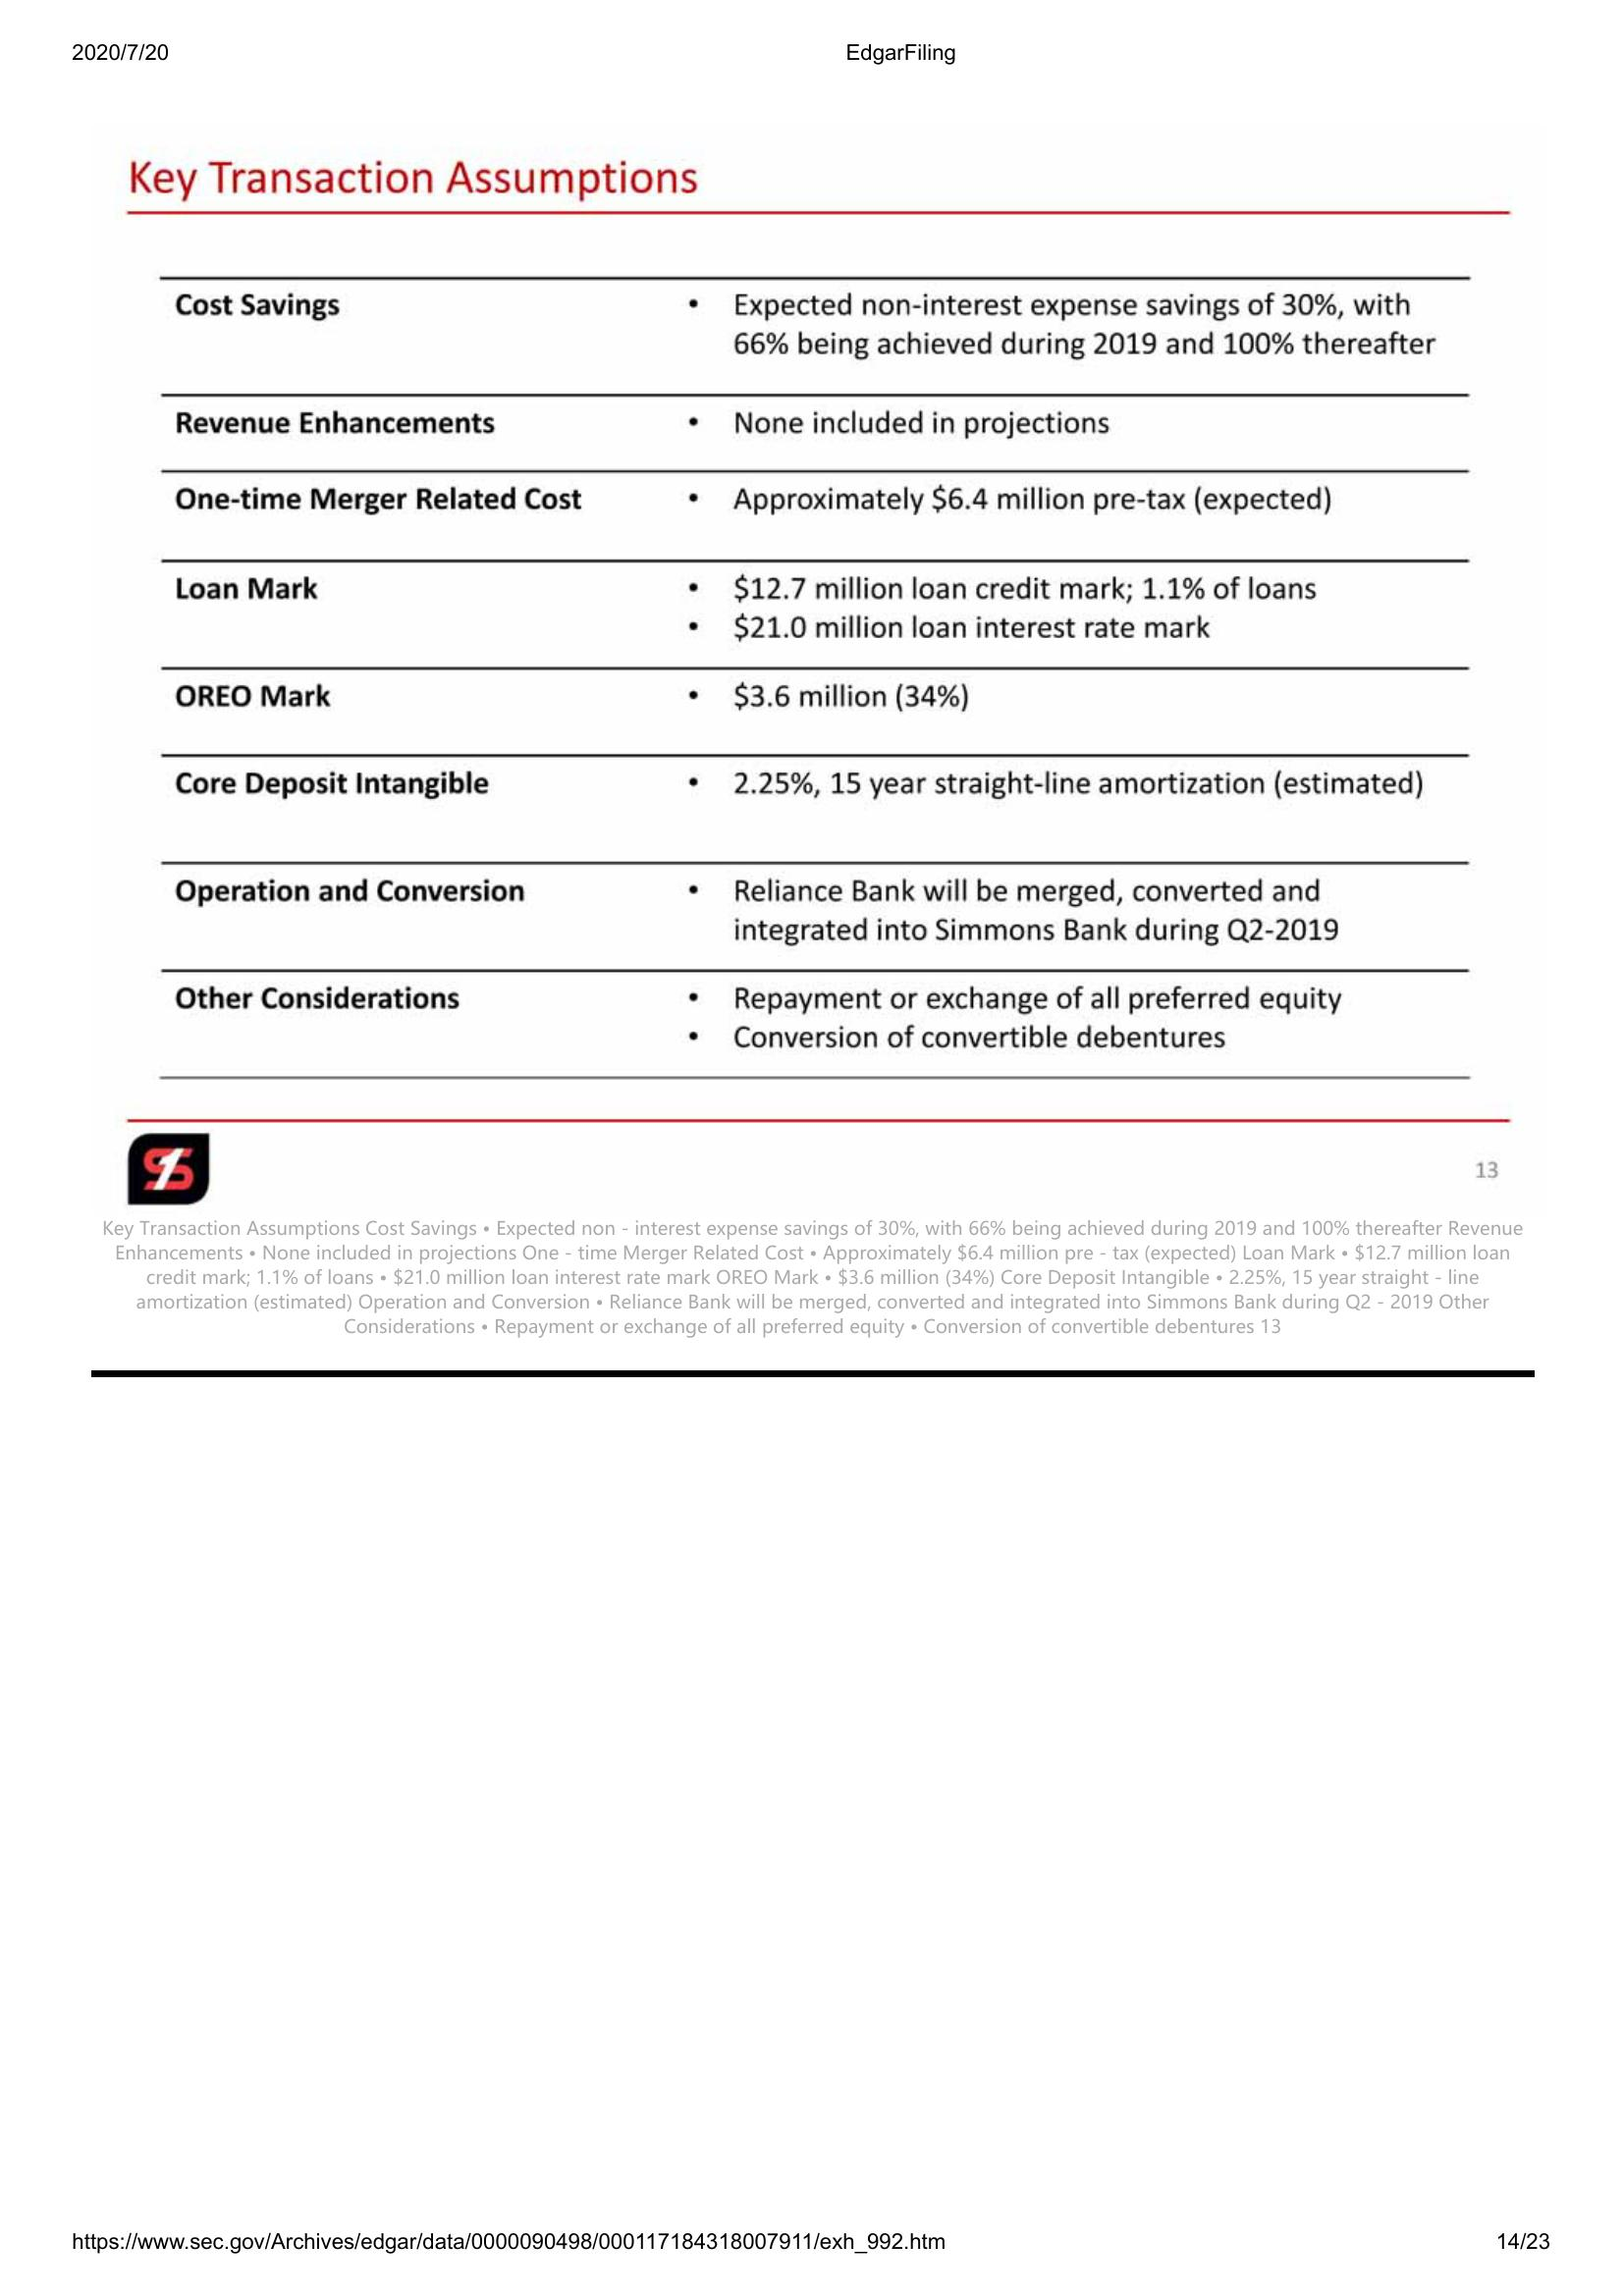table: (151, 263, 1488, 1083)
